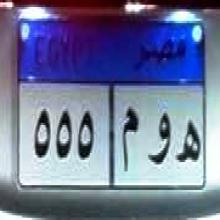5: (75, 110, 97, 167), (54, 107, 75, 161), (34, 109, 51, 165)
haa: (175, 116, 201, 171)
meem: (119, 104, 140, 174)
waw: (146, 106, 171, 174)
